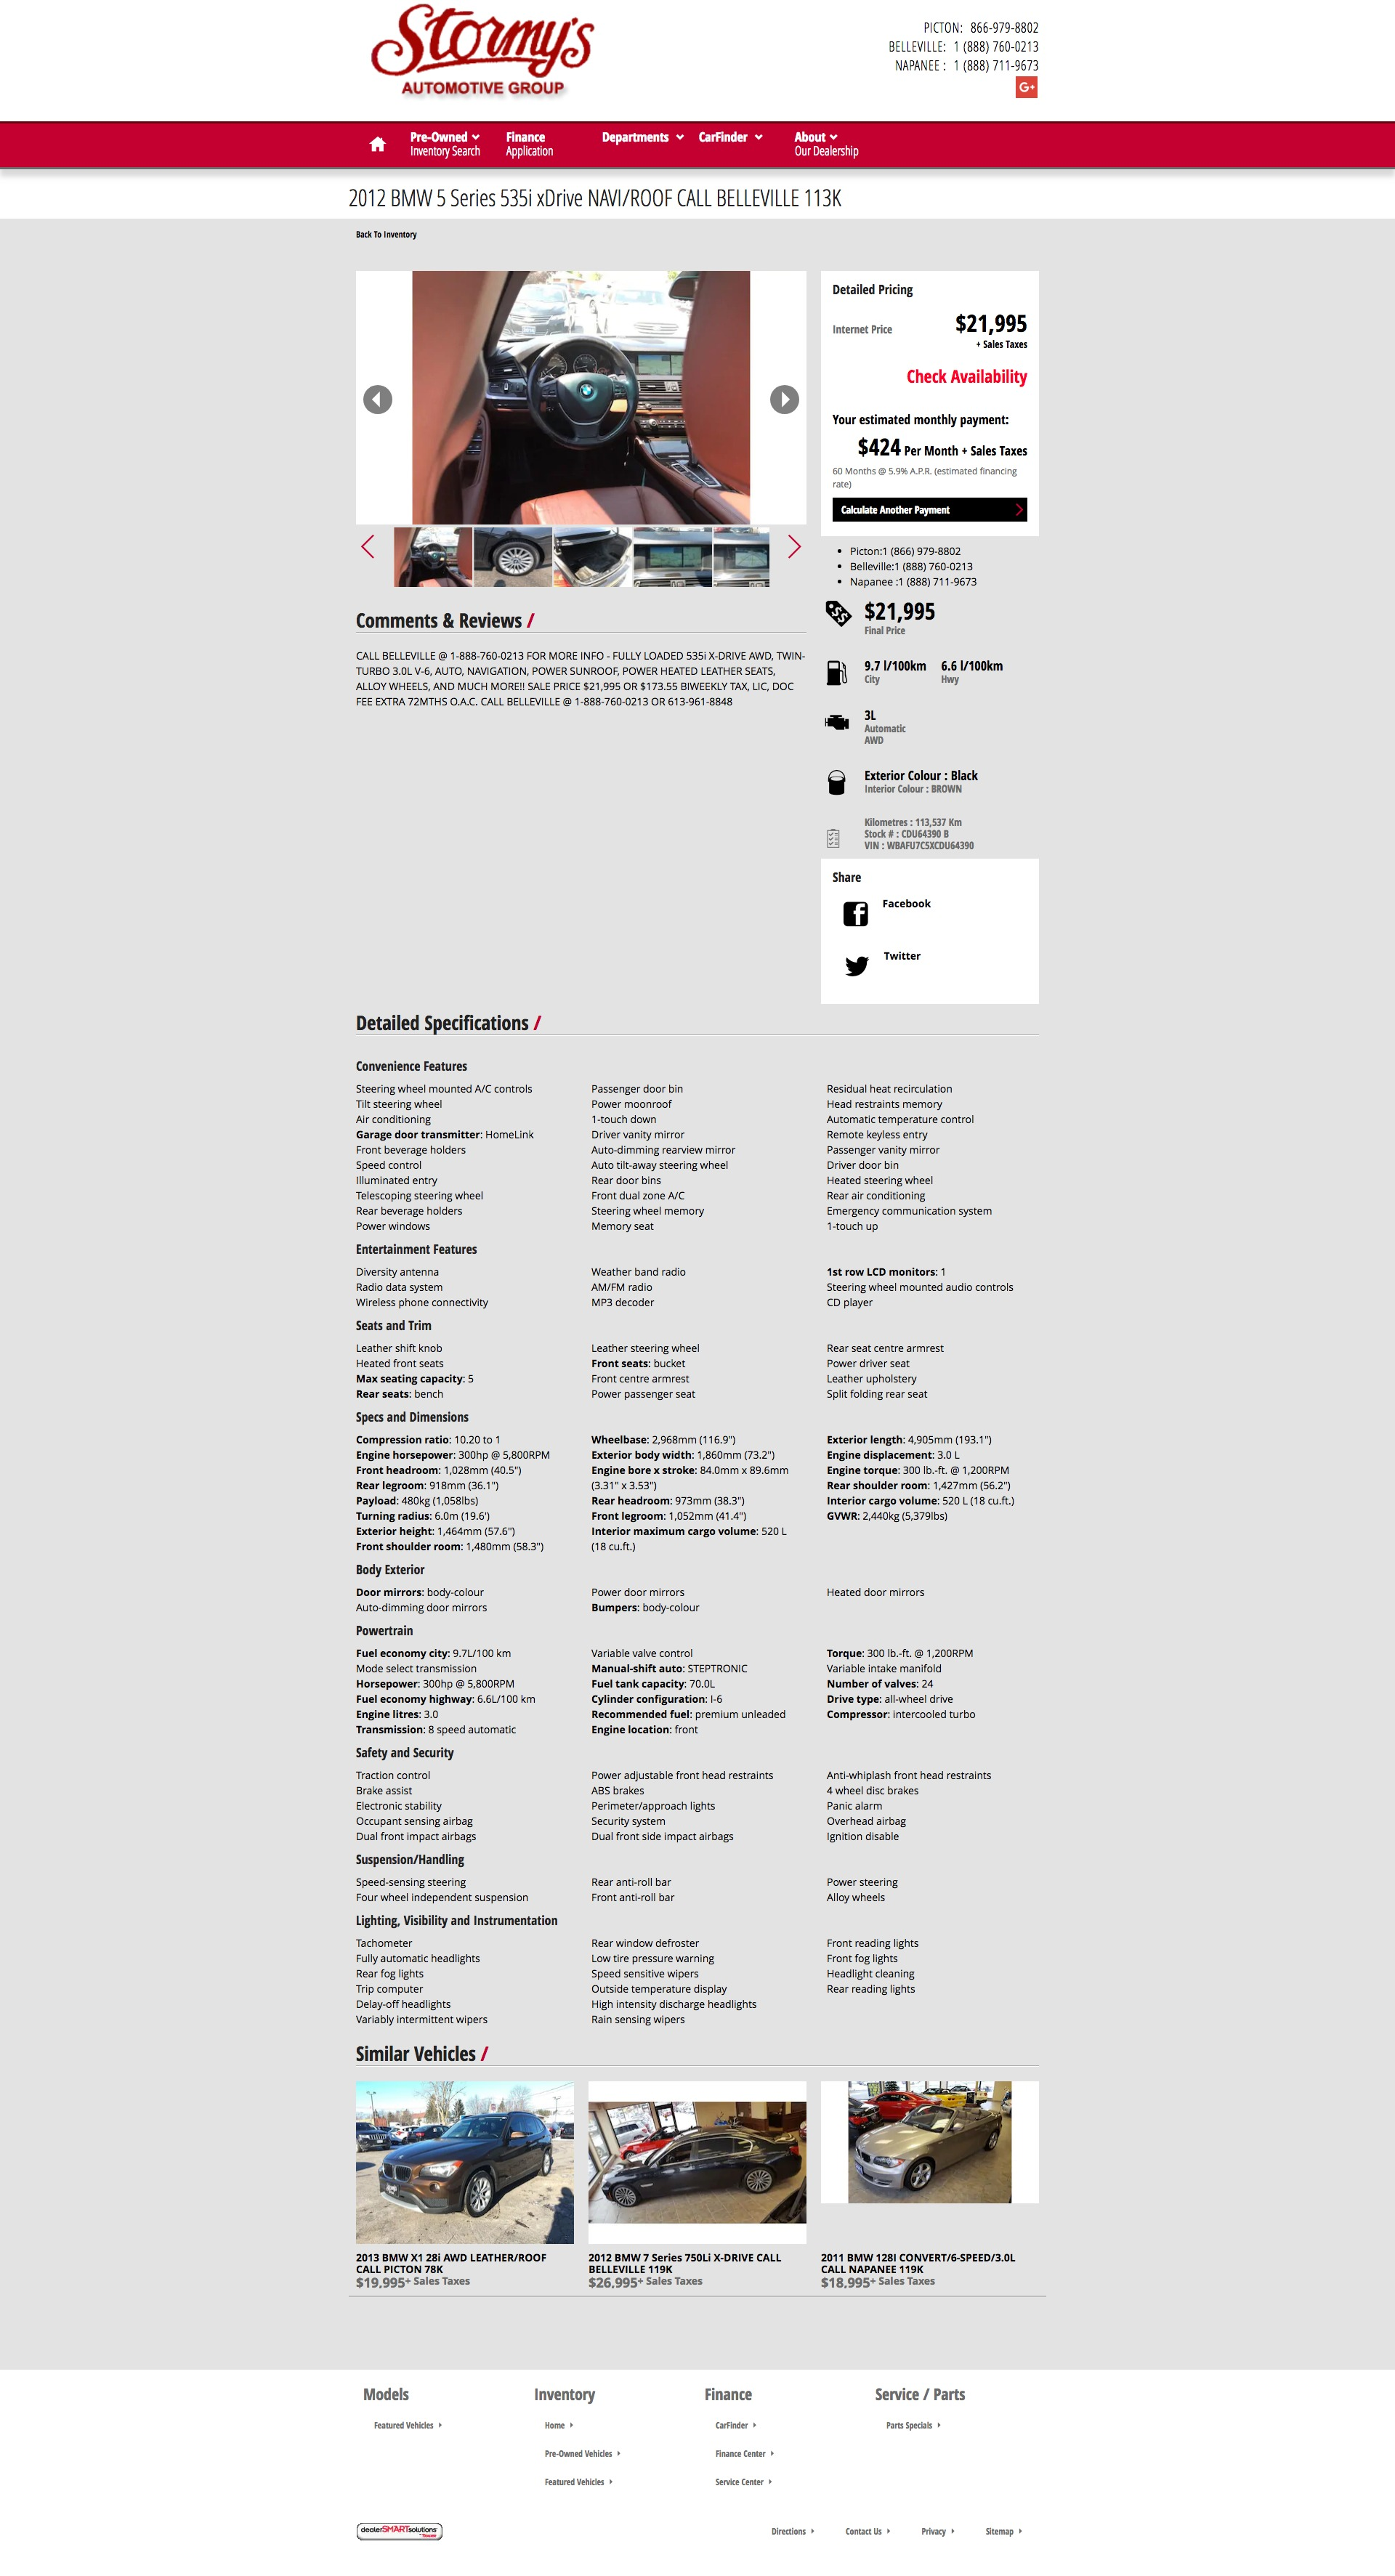car: (789, 534, 802, 560)
